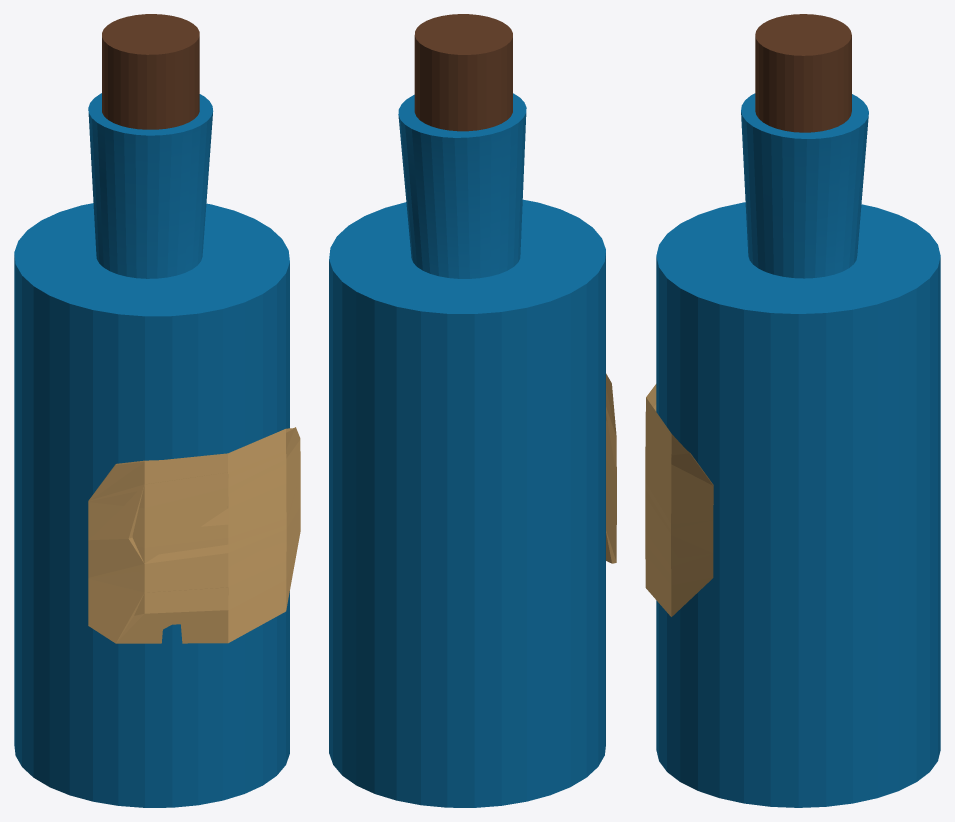
File: MediumPotionBottleBLUE.fbx
3 views of the same model, side by side, from view 1: azimuth 30°, elevation 25°; view 2: azimuth 150°, elevation 25°; view 3: azimuth 270°, elevation 25° (orthographic).
Parts seen in each view (by area): view 1: Sphere, Plane, Cylinder, Cylinder.001; view 2: Sphere, Cylinder, Cylinder.001, Plane; view 3: Sphere, Cylinder, Plane, Cylinder.001.
Part boxes in pixels (left/top/right/bottom): Sphere: left=14, top=203, right=289, bottom=807; Plane: left=88, top=427, right=300, bottom=643; Cylinder: left=88, top=93, right=213, bottom=278; Cylinder.001: left=102, top=14, right=199, bottom=129; Sphere: left=329, top=199, right=605, bottom=807; Cylinder: left=398, top=93, right=526, bottom=278; Cylinder.001: left=414, top=14, right=512, bottom=131; Plane: left=606, top=373, right=616, bottom=563; Sphere: left=656, top=202, right=940, bottom=807; Cylinder: left=741, top=93, right=868, bottom=278; Plane: left=645, top=384, right=713, bottom=616; Cylinder.001: left=755, top=14, right=851, bottom=132.
Bounding box in the file's own units: 76.76 × 220 × 82.49.
